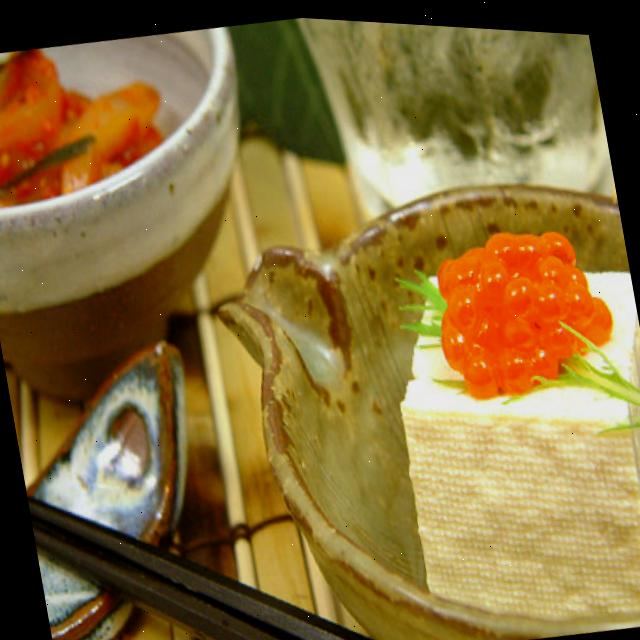豆腐料理: (365, 192, 640, 640)
